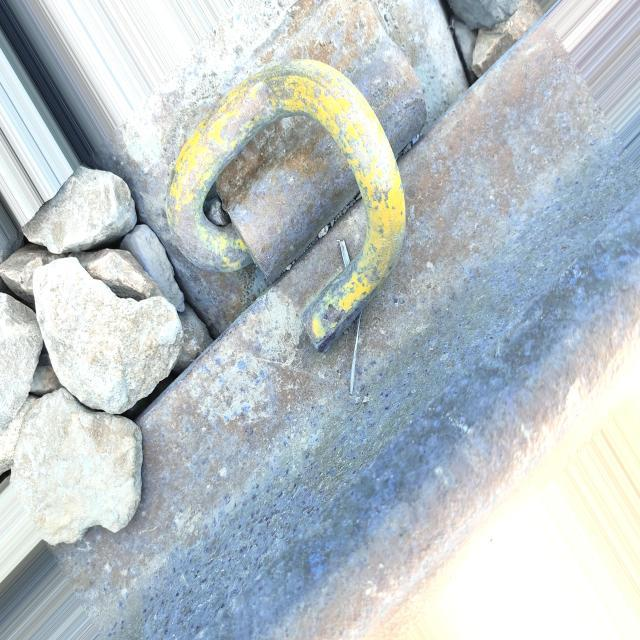Good Fasteners: (95, 0, 426, 349)
